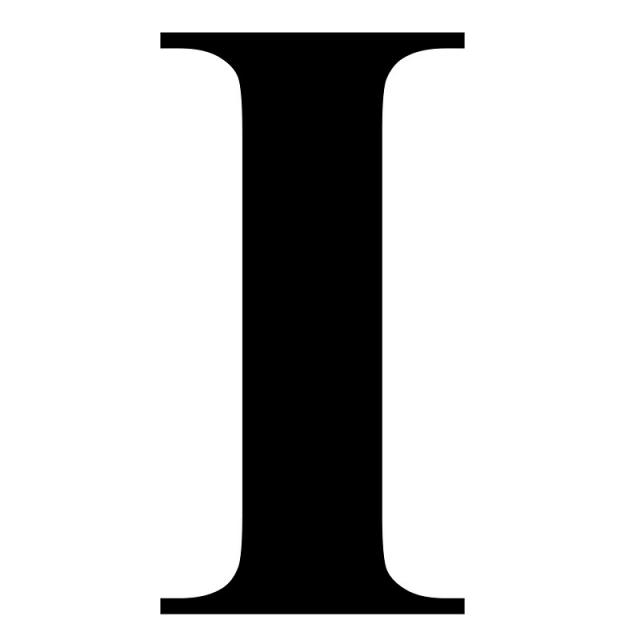I: (104, 9, 515, 623)
